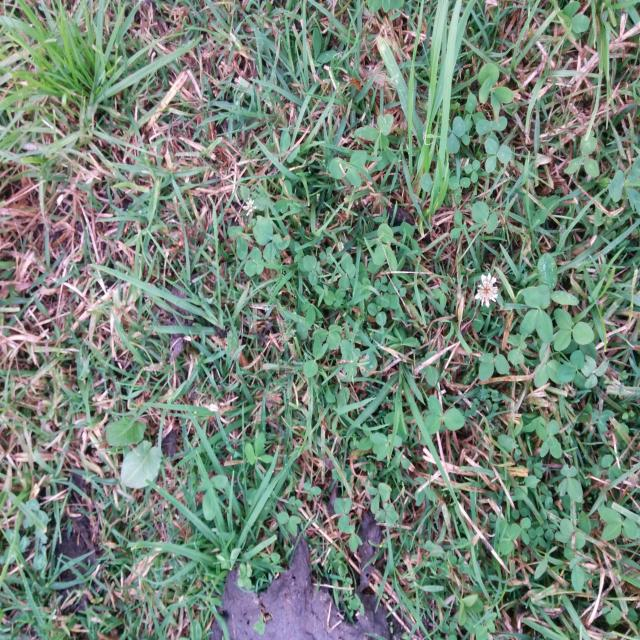Four Leaf Clover: (478, 63, 514, 123)
